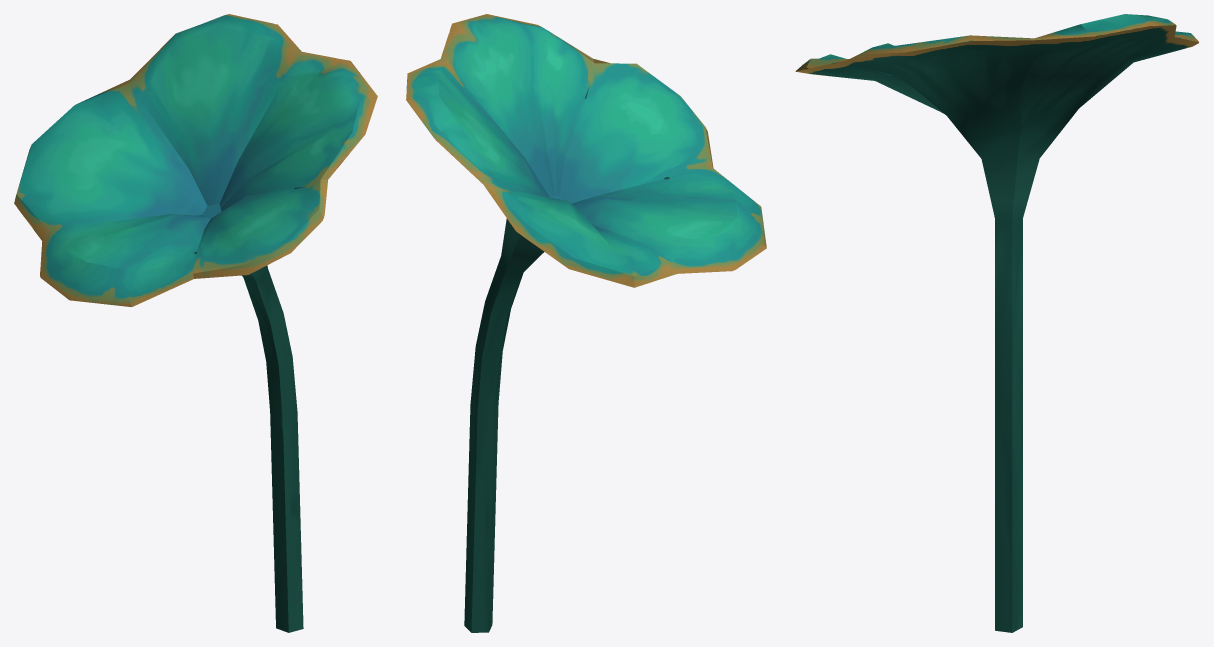
Rendered from Small_leli_model1.fbx.
3 views of the same model, side by side, from view 1: azimuth 30°, elevation 25°; view 2: azimuth 150°, elevation 25°; view 3: azimuth 270°, elevation 25° (orthographic). The views are drawn at different scales.
Visible parts, largest first — view 1: Cylinder; view 2: Cylinder; view 3: Cylinder.
Part boxes in pixels (x1,y1,x2,y2): Cylinder: (14, 14, 377, 632); Cylinder: (406, 14, 766, 632); Cylinder: (795, 14, 1198, 632).
Size of the model in its own units: 609 by 1122 by 676.
